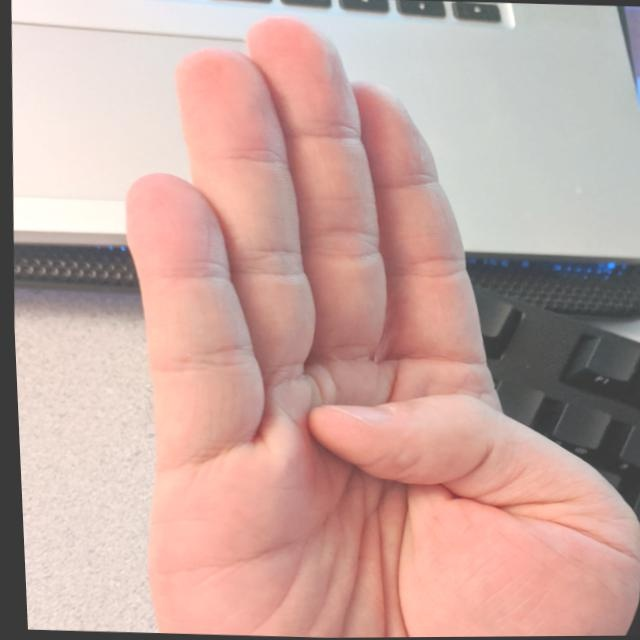B: (68, 0, 639, 639)
